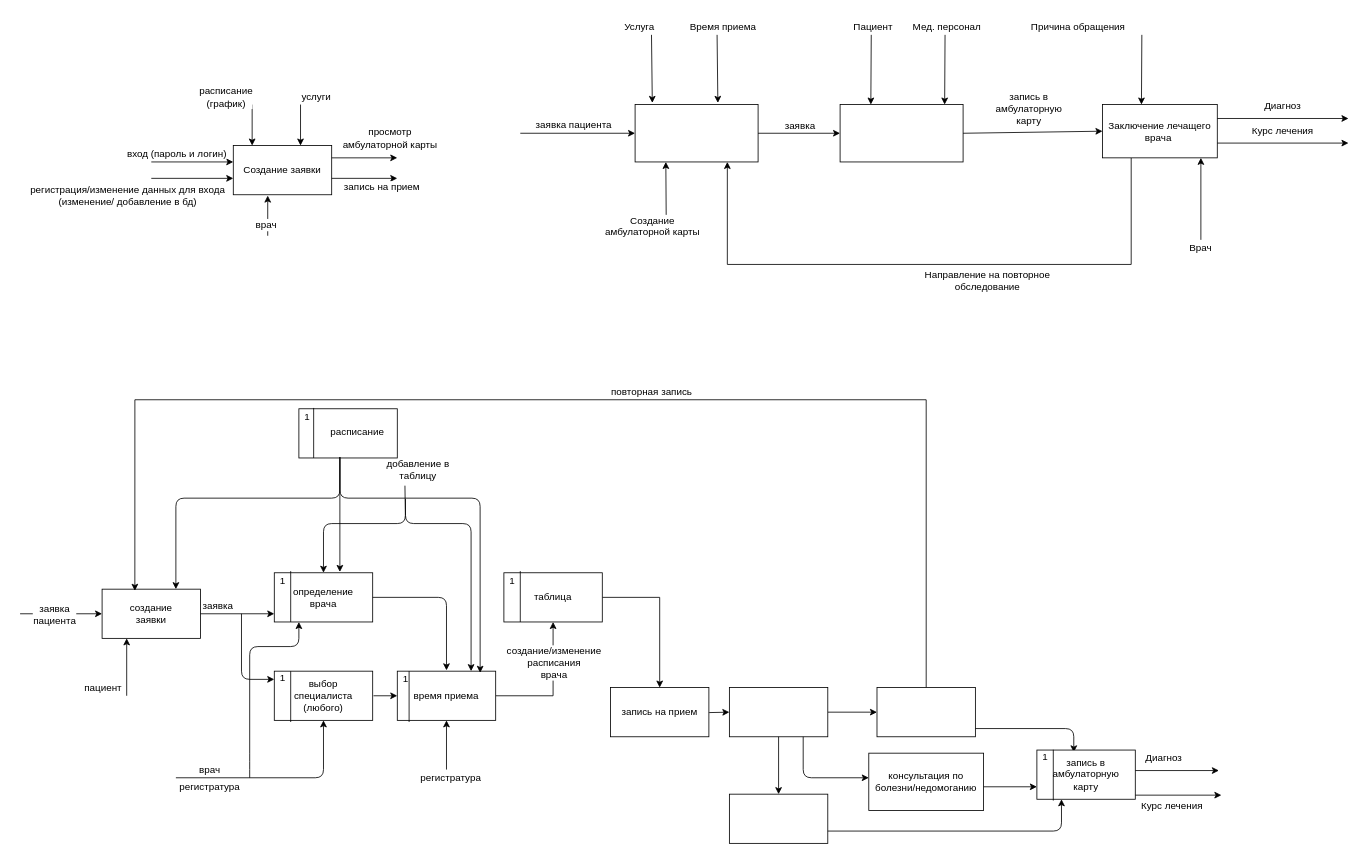
Some shapes in this 1369 by 858 pixel diagram are drawn without their labels. The shapes that lost their labels are listed below. From the top down, each one's centre as x and y in pixels, then its label:
At (696,133): "Регистрация пациента".
At (901,133): "Прием пациента".
At (778,712): "прием".
At (925,712): "направление".
At (778,818): "выписка рецепта".
